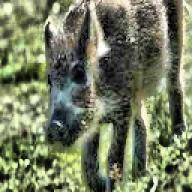boar: (42, 0, 188, 192)
